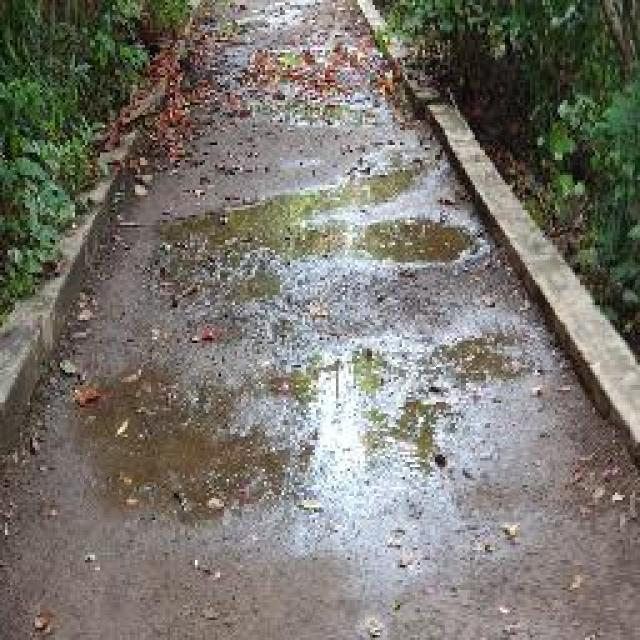puddle: (85, 325, 522, 522)
